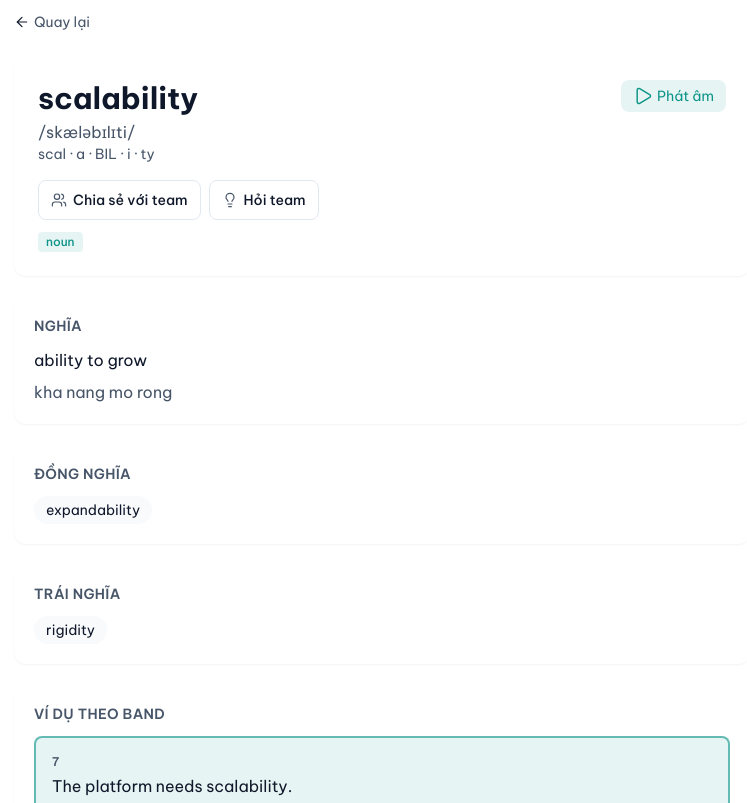
<WordDetailPage> › creates a team question from word detail after confirmation
Check: the heading "scalability" is shown, box [38,80,198,116]
Click the button "Hỏi team".
click(264, 200)  # box [208,180,319,220]
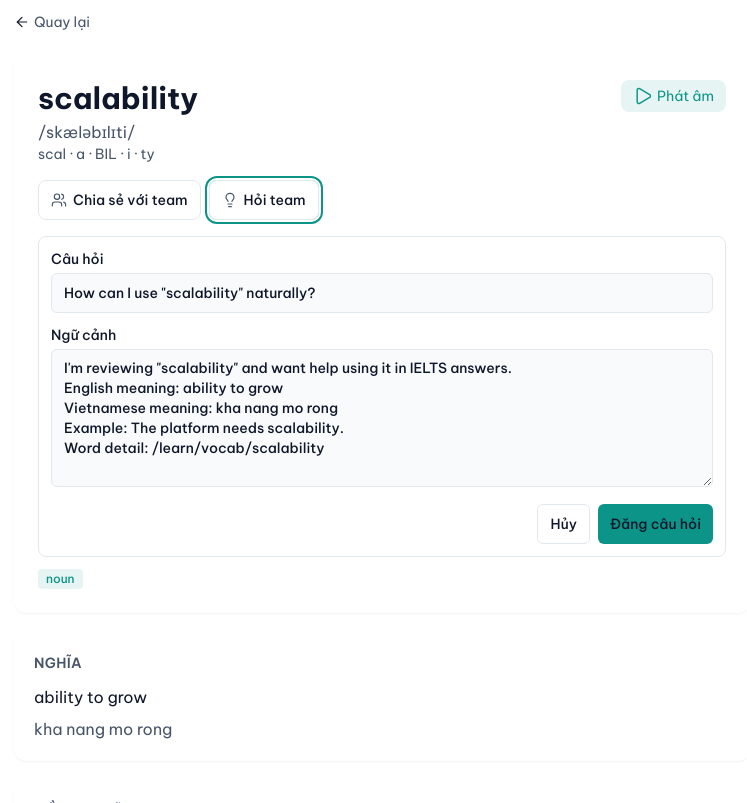
Click the button "Đăng câu hỏi".
click(656, 524)  # box [598,504,713,544]
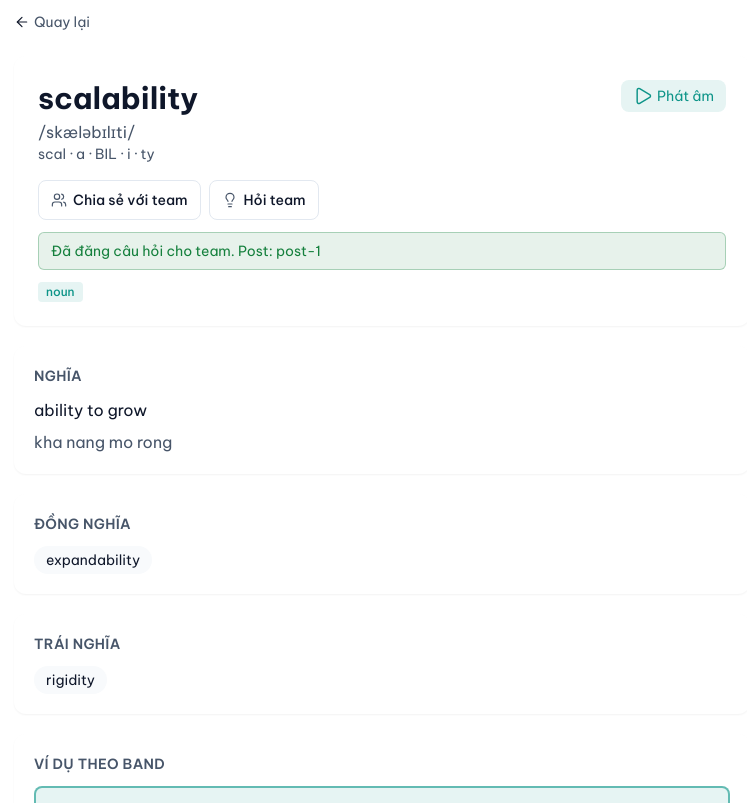
Check: the text "Đã đăng câu hỏi cho team. Post: post-1" is shown, box [38,232,726,270]
